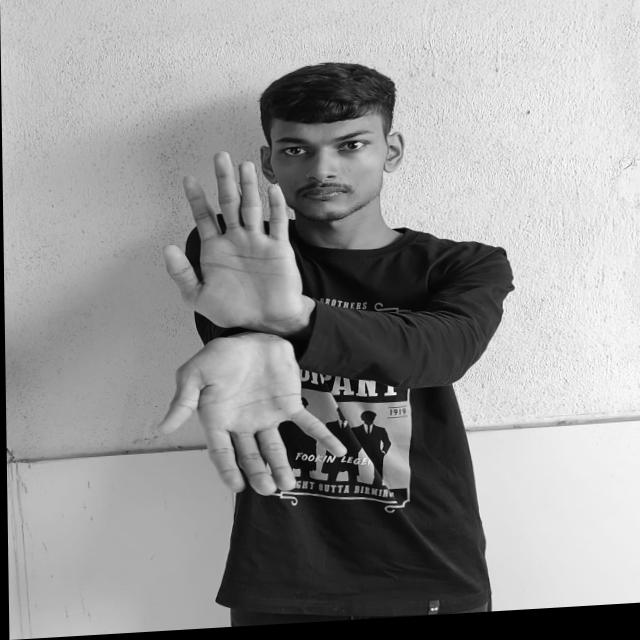Morning: (140, 142, 349, 506)
